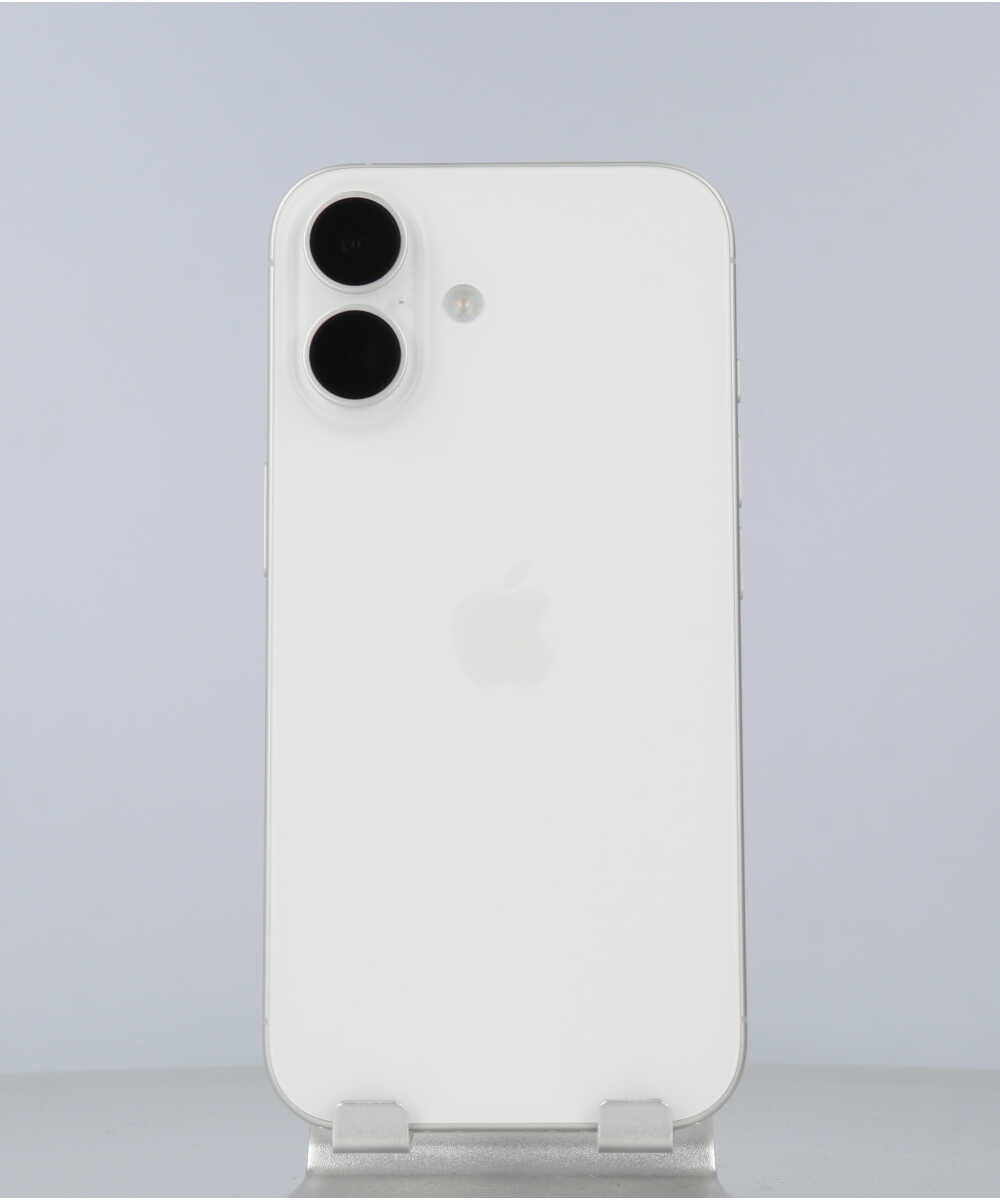iphone16_white: (237, 132, 754, 1138), (287, 179, 522, 432)
